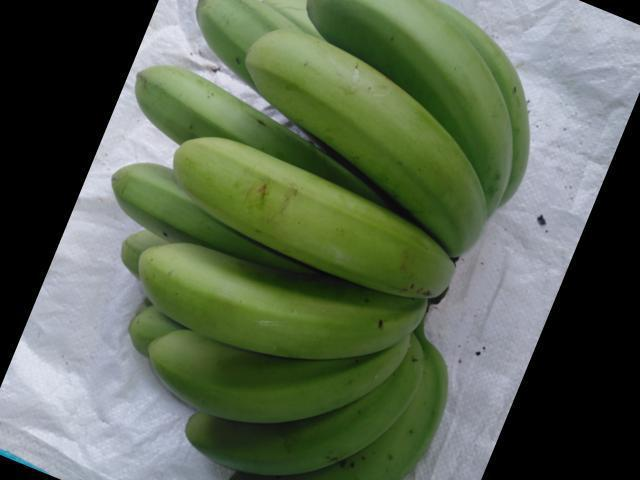unripe: (175, 135, 471, 315), (239, 30, 481, 230), (313, 3, 530, 193), (132, 247, 422, 353), (134, 332, 411, 421), (120, 55, 264, 145), (99, 152, 221, 236)
